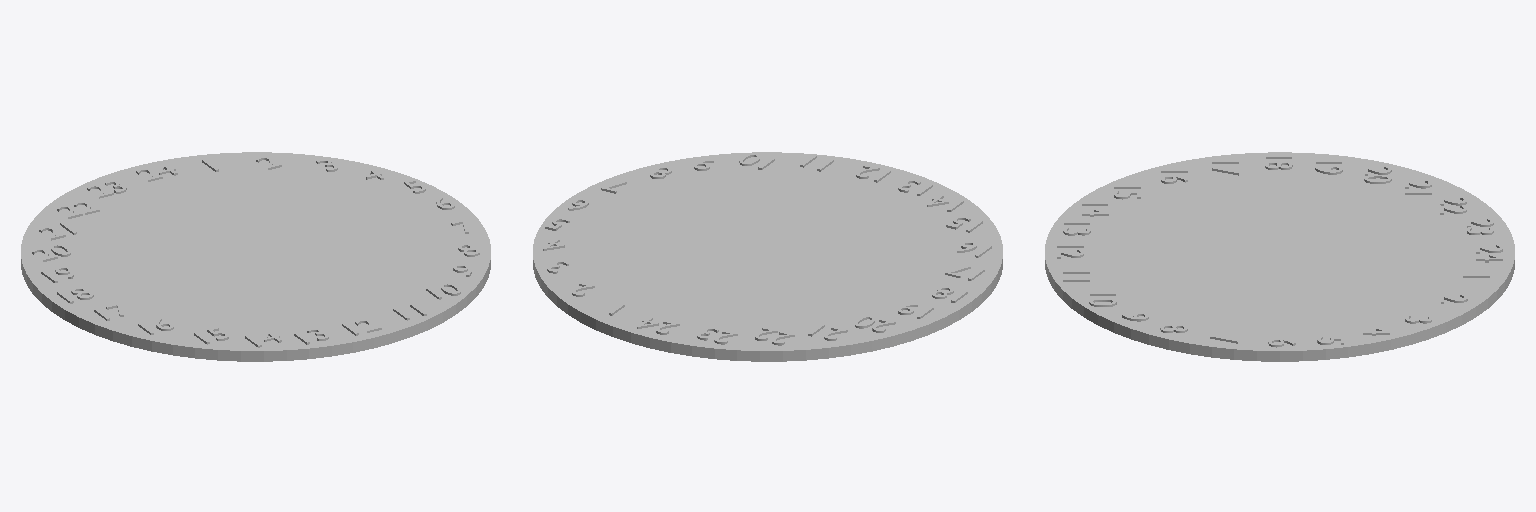
Rendered from clock plate.obj.
3 views of the same model, side by side, from view 1: azimuth 30°, elevation 25°; view 2: azimuth 150°, elevation 25°; view 3: azimuth 270°, elevation 25° (orthographic).
Parts seen in each view (by area): view 1: Cylinder; view 2: Cylinder; view 3: Cylinder.
Part boxes in pixels (x1,y1,x2,y2): Cylinder: (21, 152, 490, 361); Cylinder: (533, 152, 1002, 361); Cylinder: (1045, 152, 1514, 361).
Size of the model in its own units: 12 by 0.36 by 12.